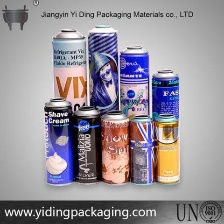aerosol_cans: (49, 25, 88, 155), (86, 22, 119, 152), (116, 43, 151, 161), (148, 68, 182, 167)
can: (40, 96, 80, 186), (71, 103, 107, 186), (97, 107, 131, 186), (150, 111, 184, 187), (126, 112, 156, 186)
